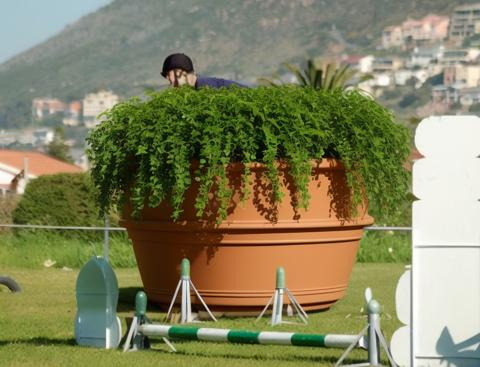person: (161, 54, 264, 196)
pottedplant: (78, 85, 412, 313)
